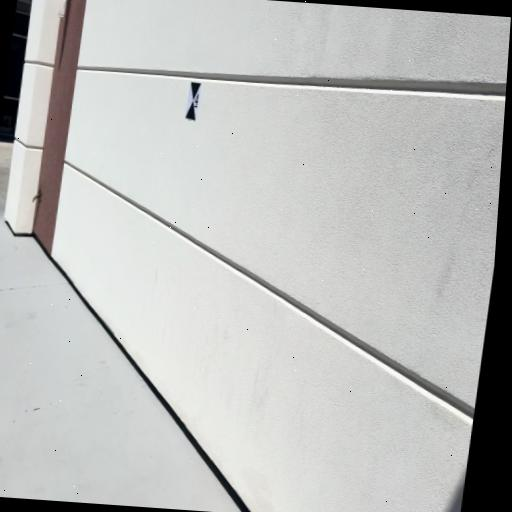target4: (185, 82, 201, 122)
